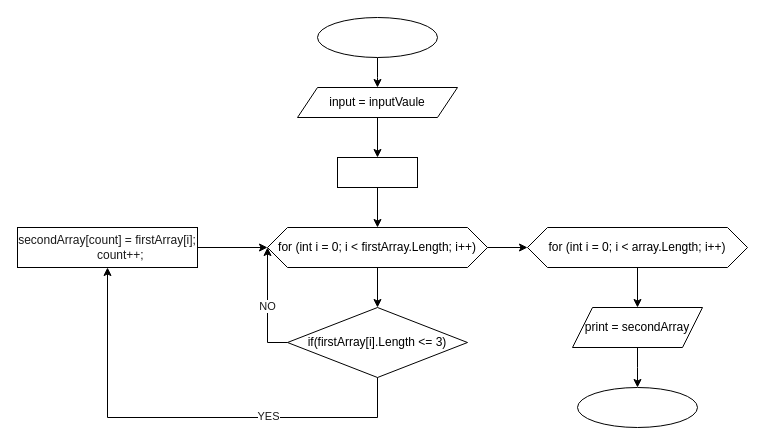
Some shapes in this 765 by 445 pixel diagram are drawn without their labels. Here are the shapes that lost their labels. From the top down, the centre of each, then its label:
At [377,37]: "Start".
At [377,172]: "int count = 0;".
At [637,407]: "End".
